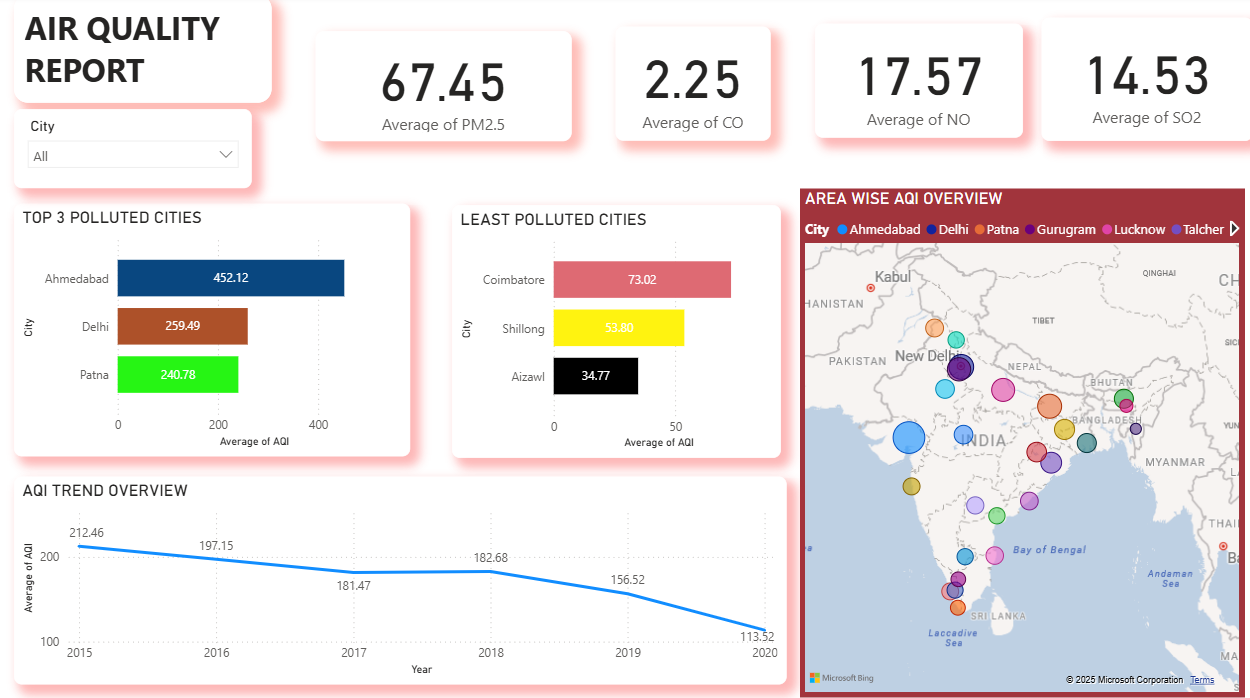

This screenshot's page, from the dashboard's own definition file:
{"tool":"powerbi","page":{"name":"Page 1","canvas":[1280,720],"ordinal":0},"visuals":[{"type":"map","title":"AREA WISE AQI OVERVIEW","fields":{"Category":["city_day.City"],"Size":["Avg(city_day.AQI)"],"Series":["city_day.City"]},"box":[808.3,195,448.3,513.3],"z":0},{"type":"textbox","box":[15,0,260,108.3],"z":1000},{"type":"card","fields":{"Values":["Avg(city_day.PM2.5)"]},"box":[319.4,35.9,258.9,111.5],"z":2000},{"type":"card","fields":{"Values":["Avg(city_day.CO)"]},"box":[621.7,32.1,156.9,115.3],"z":3000},{"type":"card","fields":{"Values":["Avg(city_day.NO)"]},"box":[823.9,28.3,209.8,115.3],"z":4000},{"type":"card","fields":{"Values":["Avg(city_day.SO2)"]},"box":[1052.6,22.7,213.5,124.7],"z":5000},{"type":"barChart","title":"TOP 3 POLLUTED CITIES","fields":{"Category":["city_day.City"],"Y":["Avg(city_day.AQI)"]},"box":[15,210,400,255],"z":6000},{"type":"barChart","title":"LEAST POLLUTED CITIES","fields":{"Category":["city_day.City"],"Y":["Avg(city_day.AQI)"]},"box":[456.7,211.7,331.7,255],"z":7000},{"type":"lineChart","title":"AQI TREND OVERVIEW","fields":{"Category":["city_day.Date.Variation.Date Hierarchy.Year"],"Y":["Avg(city_day.AQI)"]},"box":[15,486.7,780,210],"z":8000},{"type":"slicer","fields":{"Values":["city_day.City"]},"box":[15,115,240,80],"z":9000}]}

Visuals, with their boxes in screenshot pixels (x1, y1, x2, y2), scaled from the page's 1280x720 canvas onto the 1250x698 screenshot:
"AREA WISE AQI OVERVIEW" map: crop(789, 189, 1227, 687)
textbox: crop(15, 0, 269, 105)
card - Avg(city_day.PM2.5): crop(312, 35, 565, 143)
card - Avg(city_day.CO): crop(607, 31, 760, 143)
card - Avg(city_day.NO): crop(805, 27, 1009, 139)
card - Avg(city_day.SO2): crop(1028, 22, 1236, 143)
"TOP 3 POLLUTED CITIES" barChart: crop(15, 204, 405, 451)
"LEAST POLLUTED CITIES" barChart: crop(446, 205, 770, 452)
"AQI TREND OVERVIEW" lineChart: crop(15, 472, 776, 675)
slicer - city_day.City: crop(15, 111, 249, 189)
